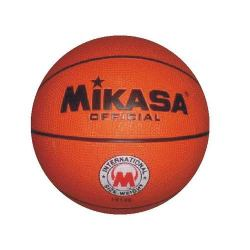basketball: (31, 35, 210, 215)
